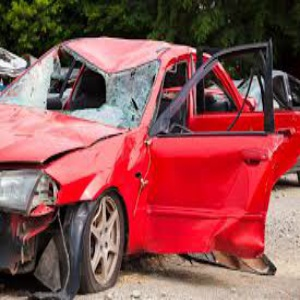bumper: (1, 225, 82, 297)
front_windshield_glass: (28, 57, 146, 125)
head_lights: (1, 166, 62, 217)
